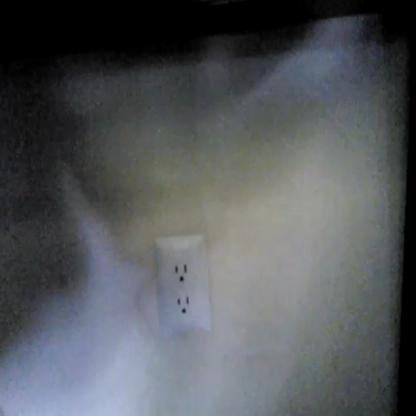OUTLET: (154, 233, 210, 338)
